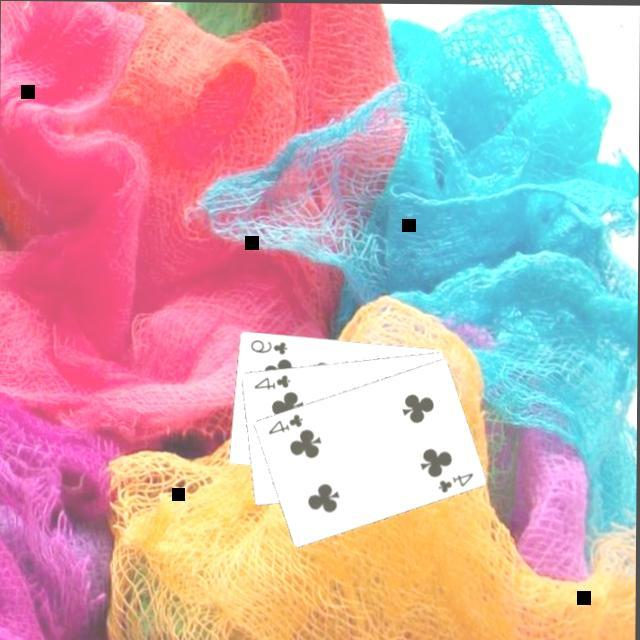4C: (436, 467, 478, 494), (266, 408, 306, 435), (251, 369, 294, 389)
9C: (248, 333, 292, 355)
